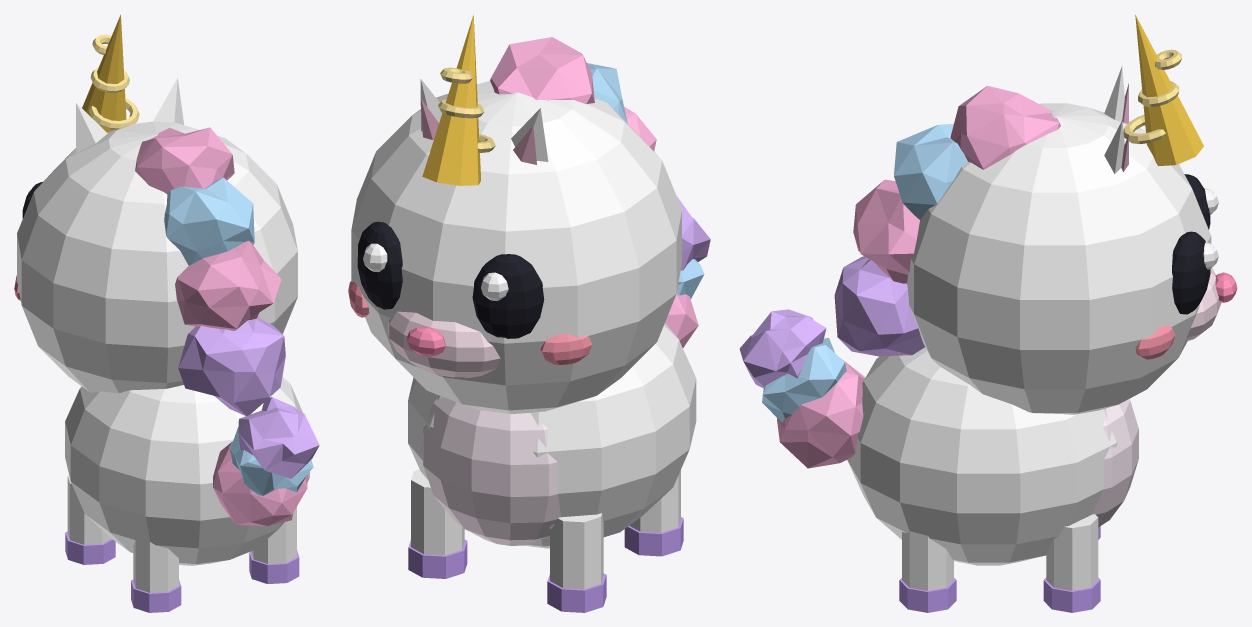
File: CottonCandyUnicorn.fbx
The picture shows the model from 3 angles, left to right: view 1: azimuth 30°, elevation 25°; view 2: azimuth 150°, elevation 25°; view 3: azimuth 270°, elevation 25°; orthographic projection. The views are drawn at different scales.
Visible parts, largest first — view 1: Pet_FFFFFF, Pet_FFB3DE, Pet_D8B3FF, Pet_B3E0FF, Pet_C8A2FF, Pet_FFD24A_Metal, Pet_FFE89A_Metal; view 2: Pet_FFFFFF, Pet_FFF0FA, Pet_1E1E2A, Pet_FFB3DE, Pet_FFD24A_Metal, Pet_C8A2FF, Pet_FFE6F2, Pet_B3E0FF, Pet_FF9AAE, Pet_FFE89A_Metal, Pet_D8B3FF, Pet_FFC2E0 (+1 smaller); view 3: Pet_FFFFFF, Pet_FFB3DE, Pet_D8B3FF, Pet_B3E0FF, Pet_FFD24A_Metal, Pet_FFF0FA, Pet_1E1E2A, Pet_C8A2FF, Pet_FFE89A_Metal, Pet_FFE6F2, Pet_FF9AAE.
Part boxes in pixels (x1,y1,x2,y2): Pet_FFFFFF: (17, 78, 309, 592); Pet_FFB3DE: (135, 127, 307, 525); Pet_D8B3FF: (178, 317, 319, 478); Pet_B3E0FF: (164, 177, 313, 495); Pet_C8A2FF: (65, 531, 299, 612); Pet_FFD24A_Metal: (82, 14, 126, 132); Pet_FFE89A_Metal: (89, 34, 139, 129); Pet_FFFFFF: (351, 79, 696, 589); Pet_FFF0FA: (423, 397, 560, 545); Pet_1E1E2A: (357, 221, 544, 338); Pet_FFB3DE: (490, 37, 698, 347); Pet_FFD24A_Metal: (422, 15, 480, 185); Pet_C8A2FF: (408, 517, 683, 612); Pet_FFE6F2: (388, 311, 500, 377); Pet_B3E0FF: (587, 63, 704, 298); Pet_FF9AAE: (348, 281, 591, 364); Pet_FFE89A_Metal: (438, 67, 495, 152); Pet_D8B3FF: (677, 196, 710, 270); Pet_FFC2E0: (420, 98, 536, 164); Pet_FFFFFF: (847, 66, 1218, 590); Pet_FFB3DE: (777, 85, 1060, 468); Pet_D8B3FF: (739, 256, 924, 388); Pet_B3E0FF: (762, 124, 967, 422); Pet_FFD24A_Metal: (1135, 14, 1203, 166); Pet_FFF0FA: (1092, 399, 1138, 527); Pet_1E1E2A: (1172, 174, 1210, 314); Pet_C8A2FF: (899, 526, 1100, 612); Pet_FFE89A_Metal: (1123, 49, 1181, 144); Pet_FFE6F2: (1186, 267, 1221, 340); Pet_FF9AAE: (1135, 326, 1175, 359).
Bounding box in the file's own units: 1.06 × 2.12 × 1.73.
